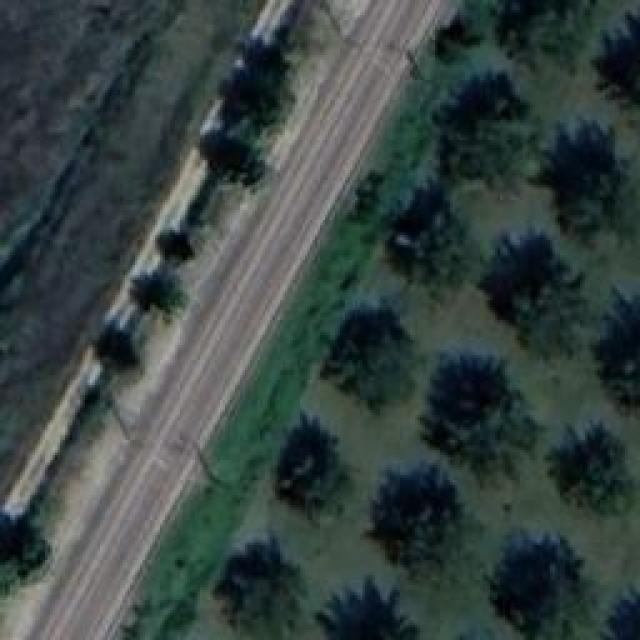Tree: (420, 353, 548, 493), (465, 232, 593, 360), (530, 118, 640, 261), (430, 70, 538, 190), (365, 463, 470, 583), (375, 185, 483, 300), (317, 298, 415, 418), (268, 412, 361, 530), (490, 537, 595, 640), (212, 537, 307, 640), (545, 420, 638, 523), (580, 288, 640, 433), (495, 0, 598, 78), (210, 40, 283, 140), (314, 577, 417, 640), (590, 13, 640, 138), (198, 130, 271, 190), (0, 518, 50, 578), (597, 587, 640, 640), (93, 325, 138, 370), (133, 270, 173, 313), (155, 230, 198, 263)
